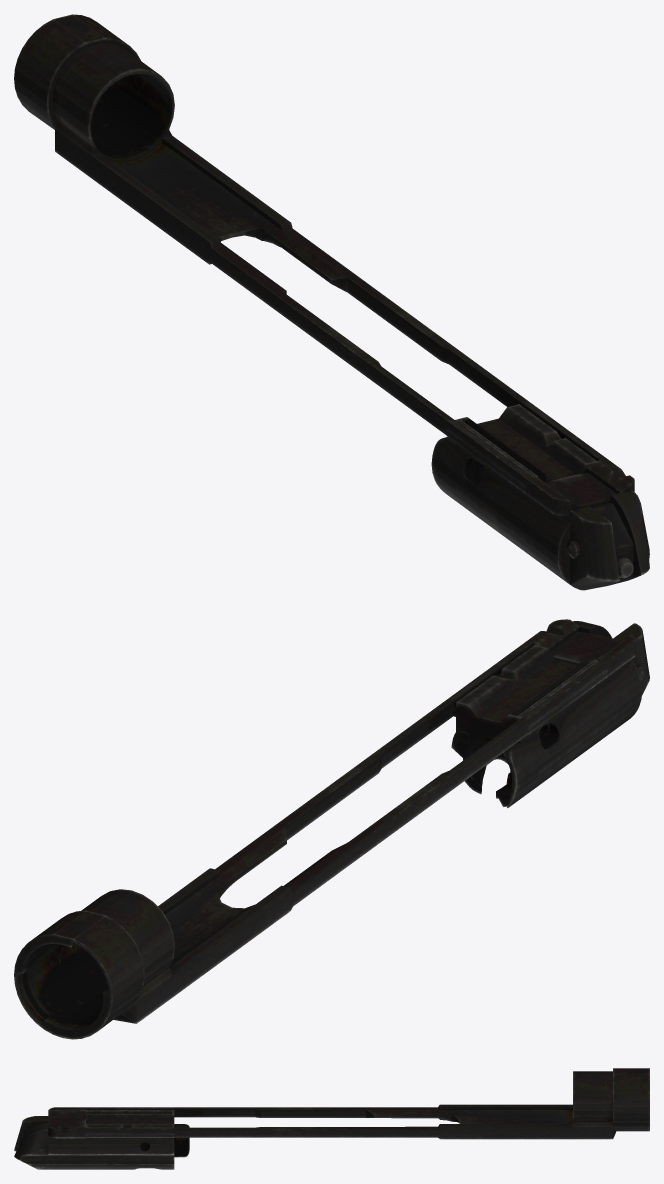
3 views of the same model, one above another, from view 1: azimuth 30°, elevation 25°; view 2: azimuth 150°, elevation 25°; view 3: azimuth 270°, elevation 25° (orthographic). The views are drawn at different scales.
Visible parts, largest first — view 1: TW_6259b864ebedf17603599e88_PZ_Import; view 2: TW_6259b864ebedf17603599e88_PZ_Import; view 3: TW_6259b864ebedf17603599e88_PZ_Import.
Boxes of the visible parts, x1,y1,x2,y2 form: TW_6259b864ebedf17603599e88_PZ_Import: [14, 14, 649, 590]; TW_6259b864ebedf17603599e88_PZ_Import: [14, 619, 649, 1039]; TW_6259b864ebedf17603599e88_PZ_Import: [14, 1068, 649, 1169].
Size of the model in its own units: 0.0197 by 0.1981 by 0.0341.
Materials: 1 (1 with a texture image).
